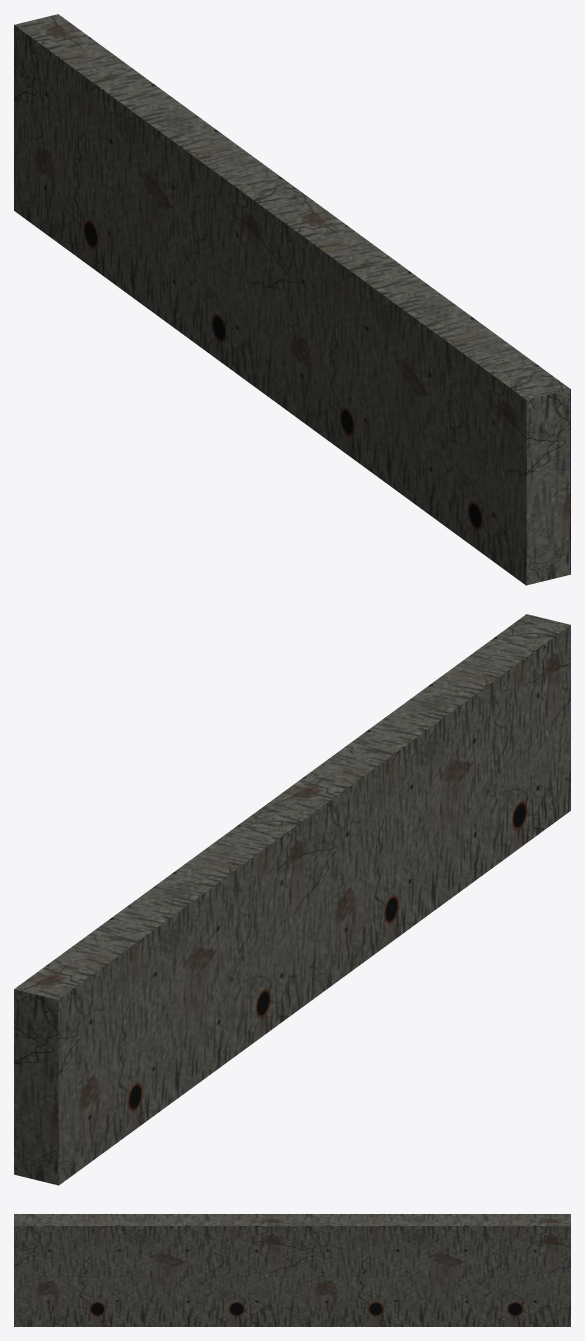
File: Wall_Side.fbx
3 views of the same model, one above another, from view 1: azimuth 30°, elevation 25°; view 2: azimuth 150°, elevation 25°; view 3: azimuth 270°, elevation 25° (orthographic). The views are drawn at different scales.
Parts seen in each view (by area): view 1: Wall_Side; view 2: Wall_Side; view 3: Wall_Side.
Part boxes in pixels (x1=…): Wall_Side: x1=14, y1=14, x2=570, y2=585; Wall_Side: x1=14, y1=614, x2=570, y2=1185; Wall_Side: x1=14, y1=1214, x2=570, y2=1326.
Bounding box in the file's own units: 100 × 400 × 2000.
Materials: 1 (1 with a texture image).
